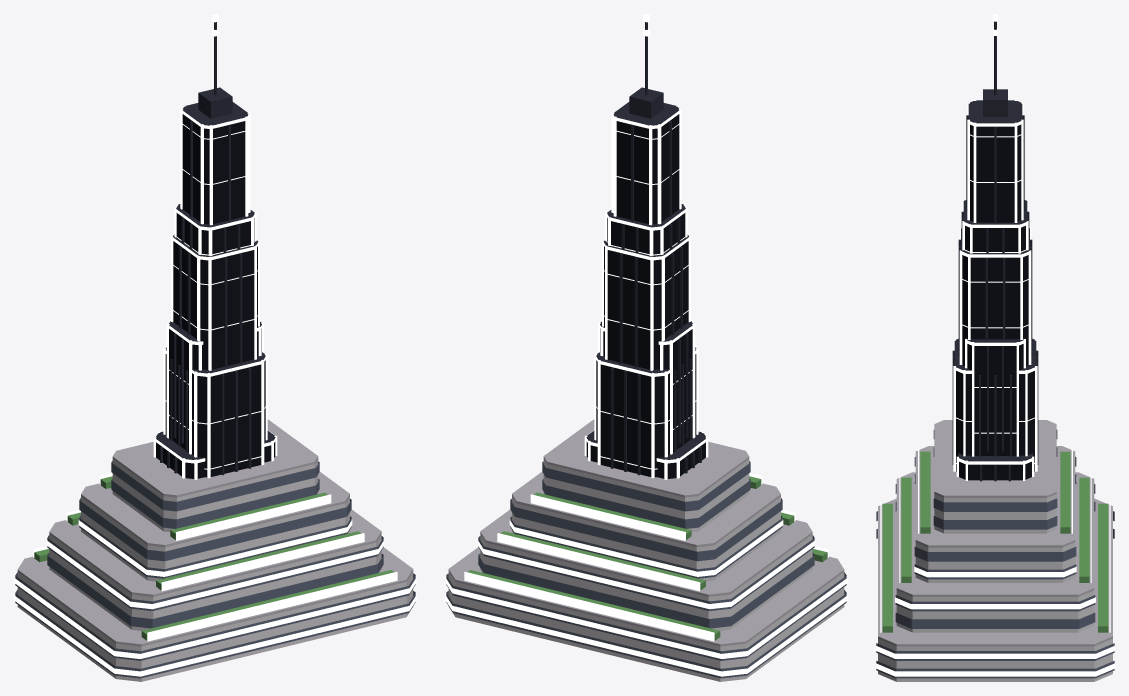
File: aether-hero-kit.glb
The picture shows the model from 3 angles, left to right: view 1: azimuth 30°, elevation 25°; view 2: azimuth 150°, elevation 25°; view 3: azimuth 270°, elevation 25°; orthographic projection.
Parts seen in each view (by area): view 1: mirage_terrace_body, grid_tower_c_body, mirage_terrace_glow, grid_tower_a_body, grid_tower_c_glow, grid_tower_b_body, grid_tower_a_glow, grid_tower_b_glow; view 2: mirage_terrace_body, grid_tower_c_body, mirage_terrace_glow, grid_tower_a_body, grid_tower_c_glow, grid_tower_b_body, grid_tower_a_glow, grid_tower_b_glow; view 3: mirage_terrace_body, grid_tower_c_body, mirage_terrace_glow, grid_tower_b_body, grid_tower_a_body, grid_tower_c_glow, grid_tower_a_glow, grid_tower_b_glow.
Part boxes in pixels (box(x1,y1,x2,y2)): mirage_terrace_body: box(15, 419, 415, 681); grid_tower_c_body: box(173, 22, 258, 369); mirage_terrace_glow: box(14, 473, 416, 676); grid_tower_a_body: box(165, 36, 265, 477); grid_tower_c_glow: box(171, 14, 259, 370); grid_tower_b_body: box(156, 321, 275, 478); grid_tower_a_glow: box(163, 29, 267, 478); grid_tower_b_glow: box(153, 320, 277, 479); mirage_terrace_body: box(446, 419, 846, 681); grid_tower_c_body: box(603, 22, 688, 369); mirage_terrace_glow: box(445, 473, 847, 676); grid_tower_a_body: box(596, 36, 696, 477); grid_tower_c_glow: box(602, 14, 690, 370); grid_tower_b_body: box(586, 321, 705, 478); grid_tower_a_glow: box(594, 29, 698, 478); grid_tower_b_glow: box(584, 320, 708, 479); mirage_terrace_body: box(876, 420, 1114, 681); grid_tower_c_body: box(958, 21, 1032, 365); mirage_terrace_glow: box(876, 449, 1114, 676); grid_tower_b_body: box(958, 338, 1032, 481); grid_tower_a_body: box(952, 36, 1038, 471); grid_tower_c_glow: box(959, 14, 1031, 364); grid_tower_a_glow: box(953, 28, 1037, 471); grid_tower_b_glow: box(956, 339, 1034, 480).
Size of the model in its own units: 11.18 by 20.9 by 7.62.
